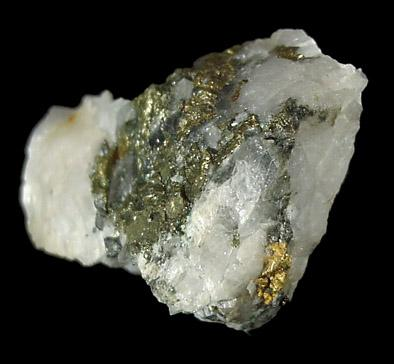gold: (92, 46, 316, 252), (253, 242, 291, 306), (274, 45, 306, 60)
